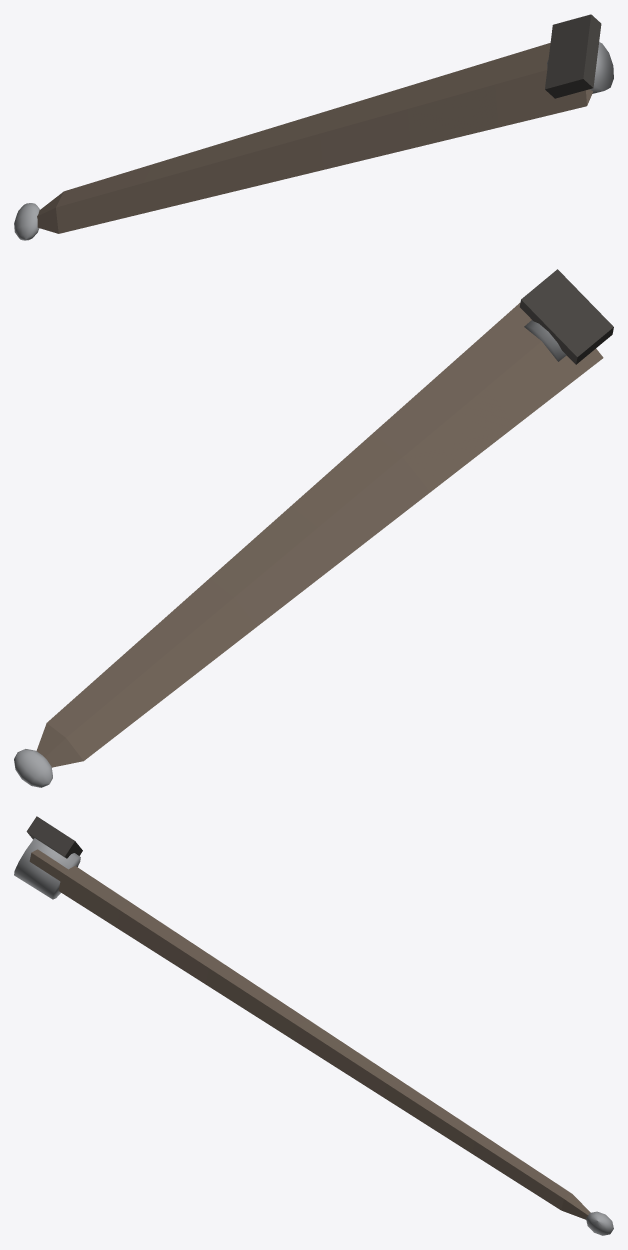
File: Scabbard.fbx
3 views of the same model, one above another, from view 1: azimuth 90°, elevation 25°; view 2: azimuth 150°, elevation 25°; view 3: azimuth 270°, elevation 25° (orthographic). The views are drawn at different scales.
Visible parts, largest first — view 1: Scabbard; view 2: Scabbard; view 3: Scabbard.
Boxes of the visible parts, left/top/right/bottom form: Scabbard: left=14, top=14, right=613, bottom=240; Scabbard: left=14, top=269, right=613, bottom=787; Scabbard: left=14, top=816, right=613, bottom=1235.
Bounding box in the file's own units: 20.77 × 22.93 × 38.83.
